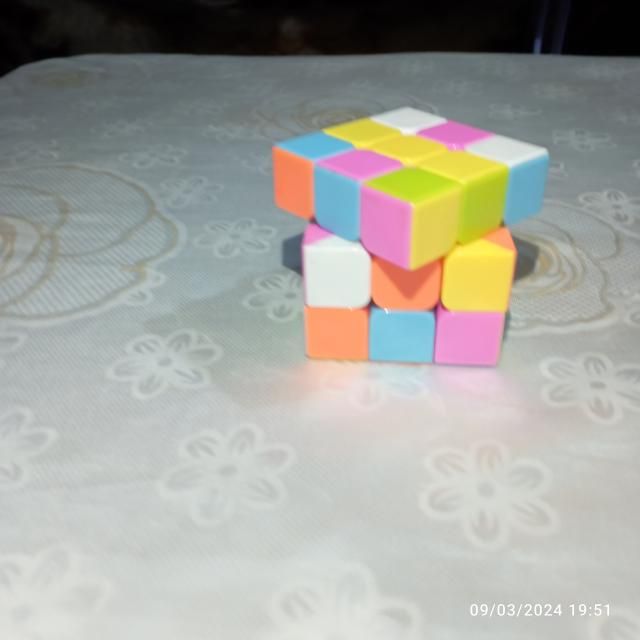Rub: (270, 102, 554, 372)
